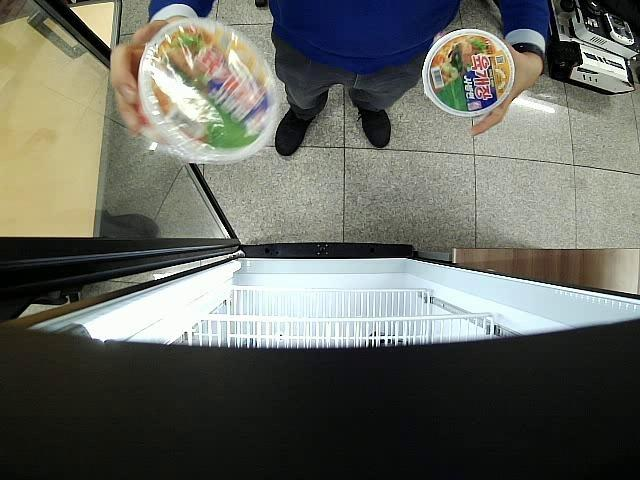09_yukGaeJang: (135, 19, 279, 162), (422, 29, 514, 118)
